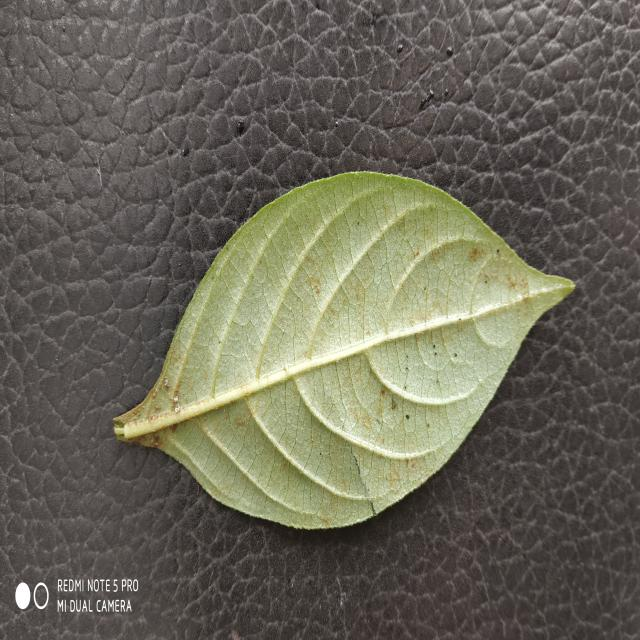ganike: (114, 173, 574, 529)
